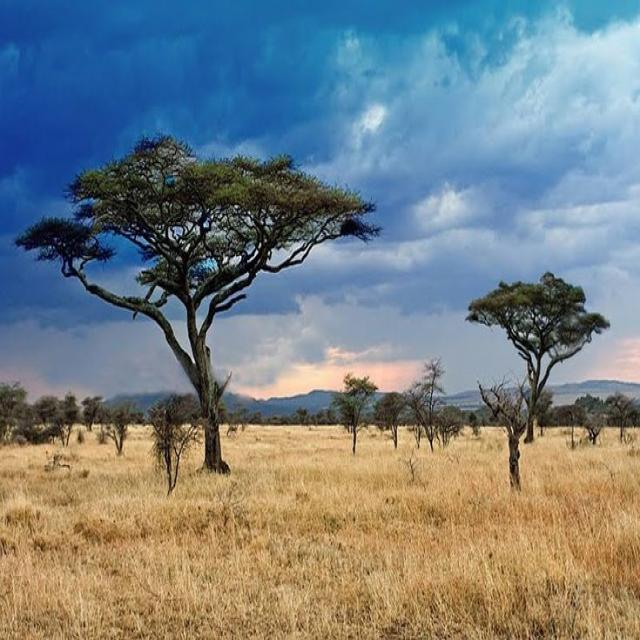Acacia: (35, 175, 356, 458), (462, 282, 601, 437)
